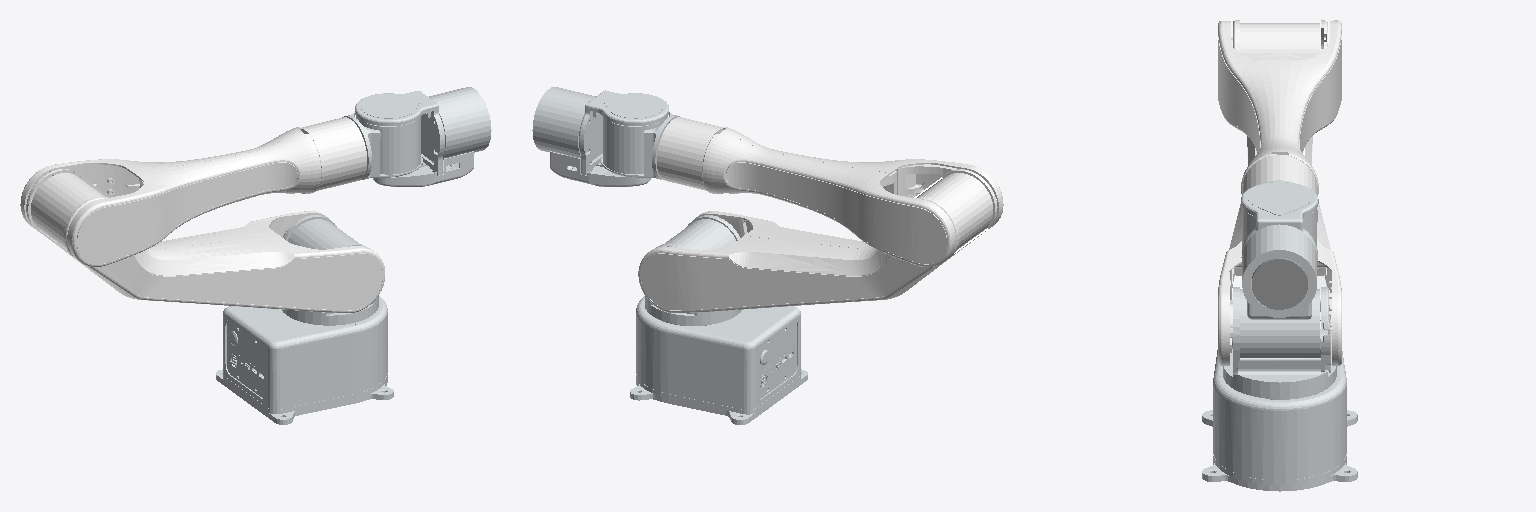
The robot description file, URDF, robot "airbot_play_v2_1":
<?xml version="1.0" encoding="utf-8"?>
<!-- This URDF was automatically created by SolidWorks to URDF Exporter! Originally created by [author] ([email redacted]) 
     Commit Version: 1.6.0-4-g7f85cfe  Build Version: 1.6.7995.38578
     For more information, please see http://wiki.ros.org/sw_urdf_exporter -->
<robot
  name="airbot_play_v2_1">
  <link
    name="base_link">
    <inertial>
      <origin
        xyz="-0.0106301474610337 -0.000199553410443472 0.0371964687357703"
        rpy="0 0 0" />
      <mass
        value="0.775915004746176" />
      <inertia
        ixx="0.00069985128784508"
        ixy="5.34514790296098E-06"
        ixz="1.76381070205361E-06"
        iyy="0.000855522012998859"
        iyz="3.90737393820019E-06"
        izz="0.00105821881122613" />
    </inertial>
    <visual>
      <origin
        xyz="0 0 0"
        rpy="0 0 0" />
      <geometry>
        <mesh
          filename="package://robot_description/airbot/meshes/base_link.STL" />
      </geometry>
      <material
        name="">
        <color
          rgba="0.898039215686275 0.917647058823529 0.929411764705882 1" />
      </material>
    </visual>
    <collision>
      <origin
        xyz="0 0 0"
        rpy="0 0 0" />
      <geometry>
        <mesh
          filename="package://robot_description/airbot/meshes/base_link.STL" />
      </geometry>
    </collision>
  </link>
  <link
    name="link1">
    <inertial>
      <origin
        xyz="7.26461828952265E-05 -0.00180358882481513 -0.0040245749975828"
        rpy="0 0 0" />
      <mass
        value="0.557107161361679" />
      <inertia
        ixx="0.000301325021461403"
        ixy="-2.99503777737959E-07"
        ixz="4.81746133283817E-07"
        iyy="0.000250217605970197"
        iyz="1.4954777872345E-05"
        izz="0.000325679218873344" />
    </inertial>
    <visual>
      <origin
        xyz="0 0 0"
        rpy="0 0 0" />
      <geometry>
        <mesh
          filename="package://robot_description/airbot/meshes/link1.STL" />
      </geometry>
      <material
        name="">
        <color
          rgba="0.898039215686275 0.917647058823529 0.929411764705882 1" />
      </material>
    </visual>
    <collision>
      <origin
        xyz="0 0 0"
        rpy="0 0 0" />
      <geometry>
        <mesh
          filename="package://robot_description/airbot/meshes/link1.STL" />
      </geometry>
    </collision>
  </link>
  <joint
    name="joint1"
    type="revolute">
    <origin
      xyz="0 0 0.1127"
      rpy="0 0 0" />
    <parent
      link="base_link" />
    <child
      link="link1" />
    <axis
      xyz="0 0 1" />
    <limit
      lower="-3.14"
      upper="2.09"
      effort="0"
      velocity="0" />
  </joint>
  <link
    name="link2">
    <inertial>
      <origin
        xyz="0.224925446535114 0.00478588811228768 0.00802387316222566"
        rpy="0 0 0" />
      <mass
        value="0.646248710360021" />
      <inertia
        ixx="0.000351883145335031"
        ixy="-7.83178613766434E-05"
        ixz="8.22450930417901E-05"
        iyy="0.00195260270078009"
        iyz="1.74744972718265E-05"
        izz="0.00195686017210086" />
    </inertial>
    <visual>
      <origin
        xyz="0 0 0"
        rpy="0 0 0" />
      <geometry>
        <mesh
          filename="package://robot_description/airbot/meshes/link2.STL" />
      </geometry>
      <material
        name="">
        <color
          rgba="1 1 1 1" />
      </material>
    </visual>
    <collision>
      <origin
        xyz="0 0 0"
        rpy="0 0 0" />
      <geometry>
        <mesh
          filename="package://robot_description/airbot/meshes/link2.STL" />
      </geometry>
    </collision>
  </link>
  <joint
    name="joint2"
    type="revolute">
    <origin
      xyz="0 0 0"
      rpy="-1.5708 -0.38678 3.1416" />
    <parent
      link="link1" />
    <child
      link="link2" />
    <axis
      xyz="0 0 1" />
    <limit
      lower="-2.96"
      upper="0.17"
      effort="0"
      velocity="0" />
  </joint>
  <link
    name="link3">
    <inertial>
      <origin
        xyz="0.200547330964236 -3.3627325386365E-05 0.00194896157935489"
        rpy="0 0 0" />
      <mass
        value="0.445563107671385" />
      <inertia
        ixx="0.000167369776419882"
        ixy="-4.81065732240346E-07"
        ixz="1.77949638222263E-06"
        iyy="0.000672322925427126"
        iyz="-9.83781152049909E-08"
        izz="0.000686599433660339" />
    </inertial>
    <visual>
      <origin
        xyz="0 0 0"
        rpy="0 0 0" />
      <geometry>
        <mesh
          filename="package://robot_description/airbot/meshes/link3.STL" />
      </geometry>
      <material
        name="">
        <color
          rgba="1 1 1 1" />
      </material>
    </visual>
    <collision>
      <origin
        xyz="0 0 0"
        rpy="0 0 0" />
      <geometry>
        <mesh
          filename="package://robot_description/airbot/meshes/link3.STL" />
      </geometry>
    </collision>
  </link>
  <joint
    name="joint3"
    type="revolute">
    <origin
      xyz="0.27009 1.3718E-05 0"
      rpy="0 0 -2.7548" />
    <parent
      link="link2" />
    <child
      link="link3" />
    <axis
      xyz="0 0 1" />
    <limit
      lower="-0.087"
      upper="3.14"
      effort="0"
      velocity="0" />
  </joint>
  <link
    name="link4">
    <inertial>
      <origin
        xyz="0.00150295453973709 5.83997713102176E-07 -0.00232966914421601"
        rpy="0 0 0" />
      <mass
        value="0.345884858675684" />
      <inertia
        ixx="0.000133803031406746"
        ixy="-7.29531827066913E-09"
        ixz="-2.46487819854503E-07"
        iyy="0.000121204730748505"
        iyz="9.89248496280094E-10"
        izz="0.000125010151603045" />
    </inertial>
    <visual>
      <origin
        xyz="0 0 0"
        rpy="0 0 0" />
      <geometry>
        <mesh
          filename="package://robot_description/airbot/meshes/link4.STL" />
      </geometry>
      <material
        name="">
        <color
          rgba="0.898039215686275 0.917647058823529 0.929411764705882 1" />
      </material>
    </visual>
    <collision>
      <origin
        xyz="0 0 0"
        rpy="0 0 0" />
      <geometry>
        <mesh
          filename="package://robot_description/airbot/meshes/link4.STL" />
      </geometry>
    </collision>
  </link>
  <joint
    name="joint4"
    type="revolute">
    <origin
      xyz="0.30854 0.0027492 0.00019049"
      rpy="-1.5708 0 -1.5708" />
    <parent
      link="link3" />
    <child
      link="link4" />
    <axis
      xyz="0 0 1" />
    <limit
      lower="-2.96"
      upper="2.96"
      effort="0"
      velocity="0" />
  </joint>
  <link
    name="link5">
    <inertial>
      <origin
        xyz="0.0506197654888128 6.95119841378662E-06 -0.000909972285324662"
        rpy="0 0 0" />
      <mass
        value="0.18663635710924" />
      <inertia
        ixx="0.000101780959048711"
        ixy="-1.53592986463846E-08"
        ixz="5.24140905704508E-08"
        iyy="8.2787133363287E-05"
        iyz="-1.71995563550468E-08"
        izz="8.59347793251101E-05" />
    </inertial>
    <visual>
      <origin
        xyz="0 0 0"
        rpy="0 0 0" />
      <geometry>
        <mesh
          filename="package://robot_description/airbot/meshes/link5.STL" />
      </geometry>
      <material
        name="">
        <color
          rgba="0.898039215686275 0.917647058823529 0.929411764705882 1" />
      </material>
    </visual>
    <collision>
      <origin
        xyz="0 0 0"
        rpy="0 0 0" />
      <geometry>
        <mesh
          filename="package://robot_description/airbot/meshes/link5.STL" />
      </geometry>
    </collision>
  </link>
  <joint
    name="joint5"
    type="revolute">
    <origin
      xyz="0 0 0"
      rpy="0 -1.5708 0" />
    <parent
      link="link4" />
    <child
      link="link5" />
    <axis
      xyz="0 0 1" />
    <limit
      lower="-1.74"
      upper="1.74"
      effort="0"
      velocity="0" />
  </joint>
  <link
    name="link6">
    <inertial>
      <origin
        xyz="1.11022302462516E-16 -1.30602993697604E-15 -0.023"
        rpy="0 0 0" />
      <mass
        value="0.17462115508378" />
      <inertia
        ixx="5.00435126944266E-05"
        ixy="8.85914841130682E-35"
        ixz="-1.77933387786267E-21"
        iyy="5.00435126944266E-05"
        iyz="-7.56774997864734E-35"
        izz="3.85039646959735E-05" />
    </inertial>
    <visual>
      <origin
        xyz="0 0 0"
        rpy="0 0 0" />
      <geometry>
        <mesh
          filename="package://robot_description/airbot/meshes/link6.STL" />
      </geometry>
      <material
        name="">
        <color
          rgba="0.698039215686274 0.698039215686274 0.698039215686274 1" />
      </material>
    </visual>
    <collision>
      <origin
        xyz="0 0 0"
        rpy="0 0 0" />
      <geometry>
        <mesh
          filename="package://robot_description/airbot/meshes/link6.STL" />
      </geometry>
    </collision>
  </link>
  <joint
    name="joint6"
    type="revolute">
    <origin
      xyz="0.0865 0 -0.0027486"
      rpy="0 1.5708 0" />
    <parent
      link="link5" />
    <child
      link="link6" />
    <axis
      xyz="0 0 1" />
    <limit
      lower="-3.14"
      upper="3.14"
      effort="0"
      velocity="0" />
  </joint>
</robot>

--- What the picture shows (computed from the rendered views, not written in the file) ---
Views: 3 orthographic renders of the robot side by side, from view 1: azimuth 30°, elevation 25°; view 2: azimuth 150°, elevation 25°; view 3: azimuth 270°, elevation 25°.
Model airbot_play_v2_1 with 7 links and 6 joints (6 revolute), rooted at base_link, posed all joints at 0.
Visible links, largest first — view 1: link2, link3, base_link, link5, link4, link1; view 2: link2, link3, base_link, link5, link4, link1; view 3: base_link, link3, link1, link2, link5, link6, link4.
Boxes of the visible links, x1,y1,x2,y2 form: link2: [26, 169, 384, 312]; link3: [20, 117, 366, 266]; base_link: [216, 296, 393, 424]; link5: [355, 87, 491, 186]; link4: [342, 113, 422, 179]; link1: [282, 215, 378, 325]; link2: [638, 169, 996, 312]; link3: [657, 117, 1003, 266]; base_link: [630, 296, 807, 424]; link5: [532, 87, 668, 186]; link4: [601, 112, 679, 179]; link1: [645, 215, 741, 325]; base_link: [1202, 332, 1357, 491]; link3: [1218, 20, 1341, 195]; link1: [1223, 287, 1336, 398]; link2: [1218, 20, 1341, 365]; link5: [1241, 182, 1318, 319]; link6: [1252, 258, 1307, 309]; link4: [1242, 180, 1317, 262].
Size in the robot's own frame: 0.425 by 0.116 by 0.2461 metres.
Meshes: 7 distinct files referenced, 7 mesh visuals loaded (7 binary STL).